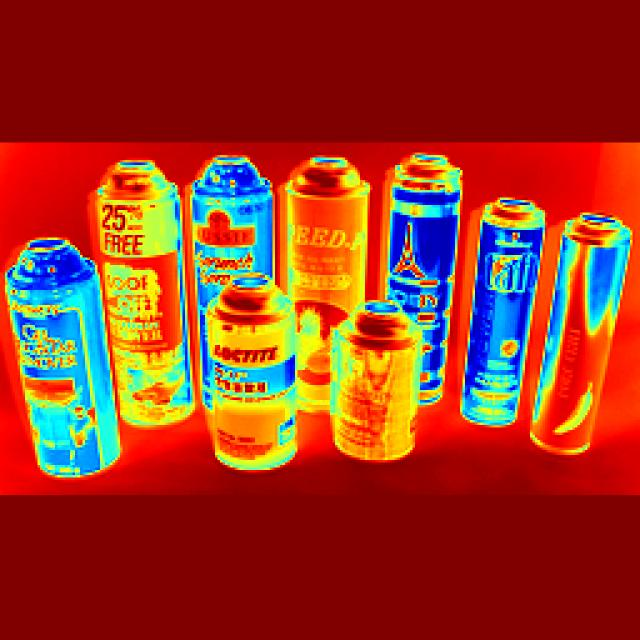Aerosol Cans: (2, 227, 125, 491), (91, 155, 199, 415), (193, 252, 311, 468), (380, 146, 469, 418), (282, 168, 366, 402), (471, 186, 541, 430), (560, 200, 629, 446), (334, 289, 418, 479)
